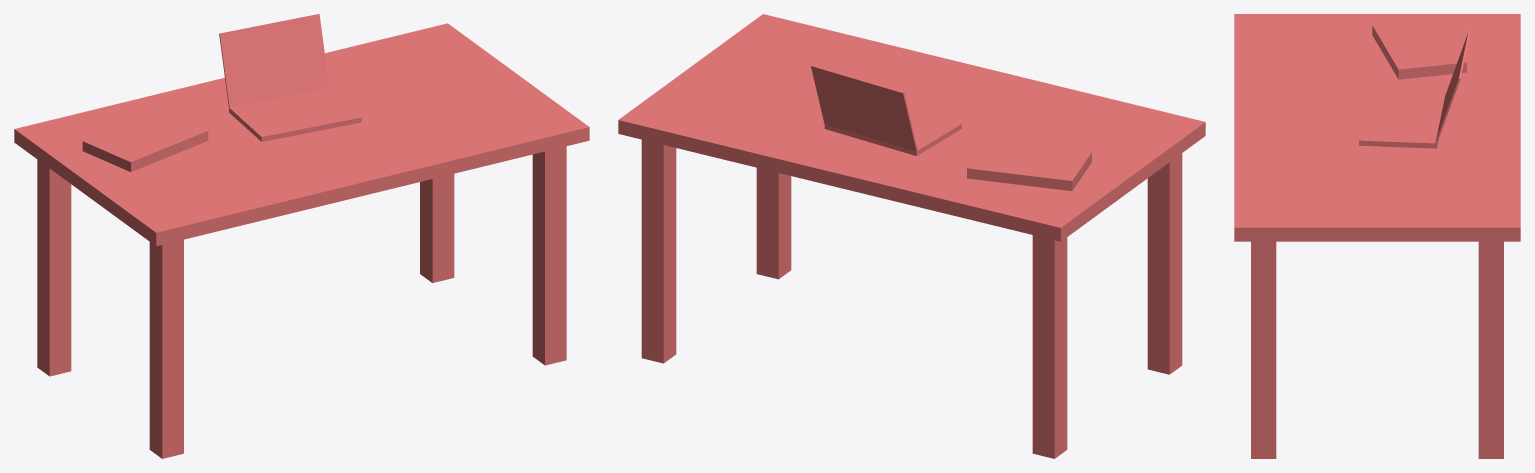
File: pulse_crime_table_col.fbx
The picture shows the model from 3 angles, left to right: view 1: azimuth 30°, elevation 25°; view 2: azimuth 150°, elevation 25°; view 3: azimuth 270°, elevation 25°; orthographic projection. The views are drawn at different scales.
Visible parts, largest first — view 1: pulse_crime_table_col; view 2: pulse_crime_table_col; view 3: pulse_crime_table_col.
Part boxes in pixels (bbox=[...]): pulse_crime_table_col: bbox=[14, 14, 589, 458]; pulse_crime_table_col: bbox=[618, 14, 1205, 458]; pulse_crime_table_col: bbox=[1234, 14, 1520, 458].
Bounding box in the file's own units: 1.5 × 0.85 × 1.01.
